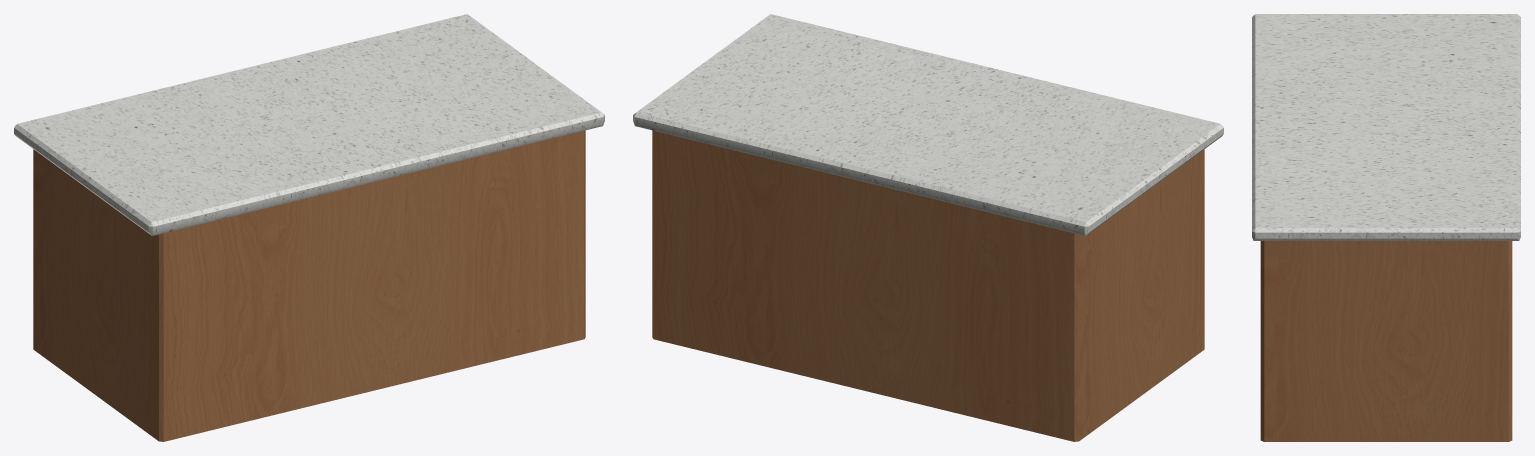
The model's file is Table.fbx.
3 renders of one model, left to right at view 1: azimuth 30°, elevation 25°; view 2: azimuth 150°, elevation 25°; view 3: azimuth 270°, elevation 25°, orthographic. The views are drawn at different scales.
Parts seen in each view (by area): view 1: Table; view 2: Table; view 3: Table.
Part boxes in pixels (x1,y1,x2,y2): Table: (14, 14, 604, 441); Table: (633, 14, 1223, 441); Table: (1252, 14, 1520, 441).
Bounding box in the file's own units: 15.03 × 7.09 × 7.87.
